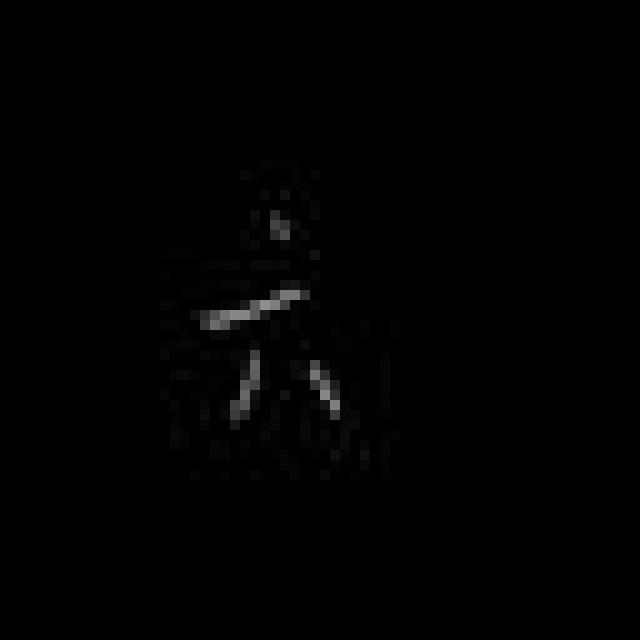6 -six-: (194, 204, 345, 426)
